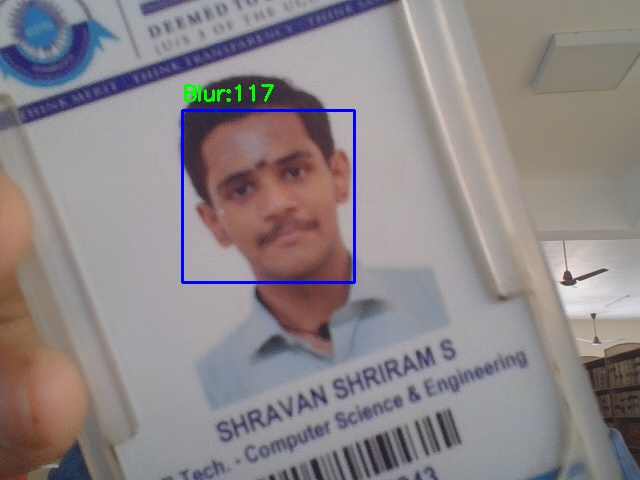fake: (182, 110, 354, 282)
